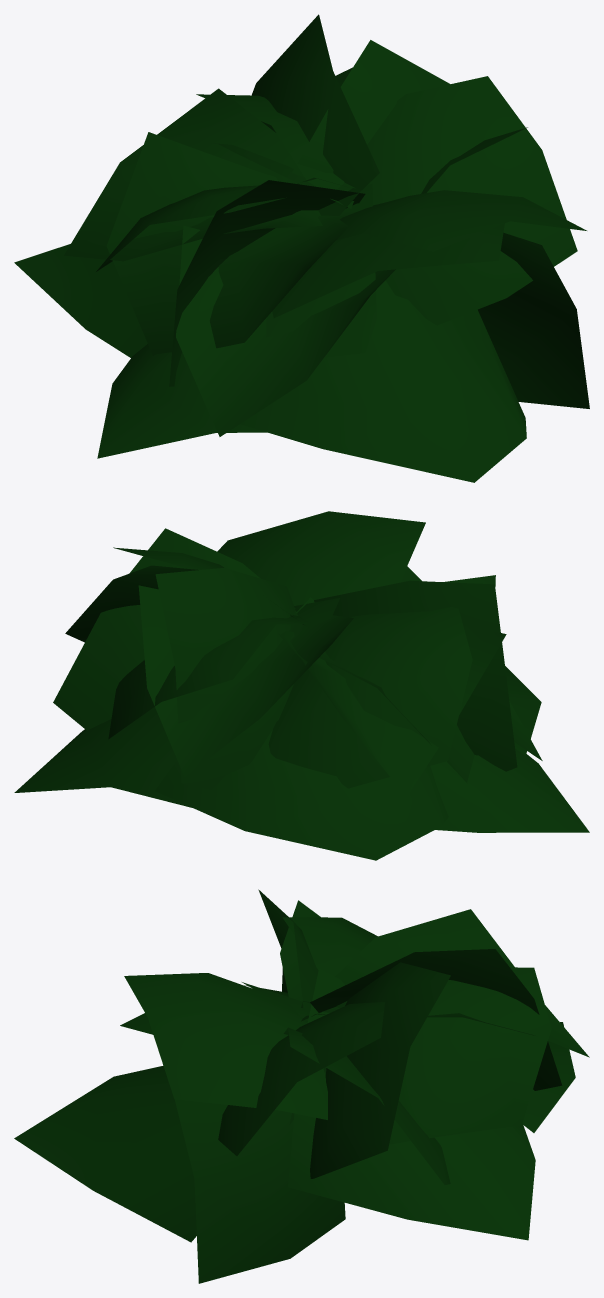
File: Bush_02.fbx
3 renders of one model, top to bottom at view 1: azimuth 30°, elevation 25°; view 2: azimuth 150°, elevation 25°; view 3: azimuth 270°, elevation 25°, orthographic. The views are drawn at different scales.
Parts seen in each view (by area): view 1: bush_02_LOD0; view 2: bush_02_LOD0; view 3: bush_02_LOD0.
Part boxes in pixels (box(x1,y1,x2,y2)): bush_02_LOD0: box(14, 14, 589, 482); bush_02_LOD0: box(14, 511, 589, 860); bush_02_LOD0: box(14, 889, 589, 1283).
Size of what is drawn, in the model's own units: 368 by 223 by 400.
